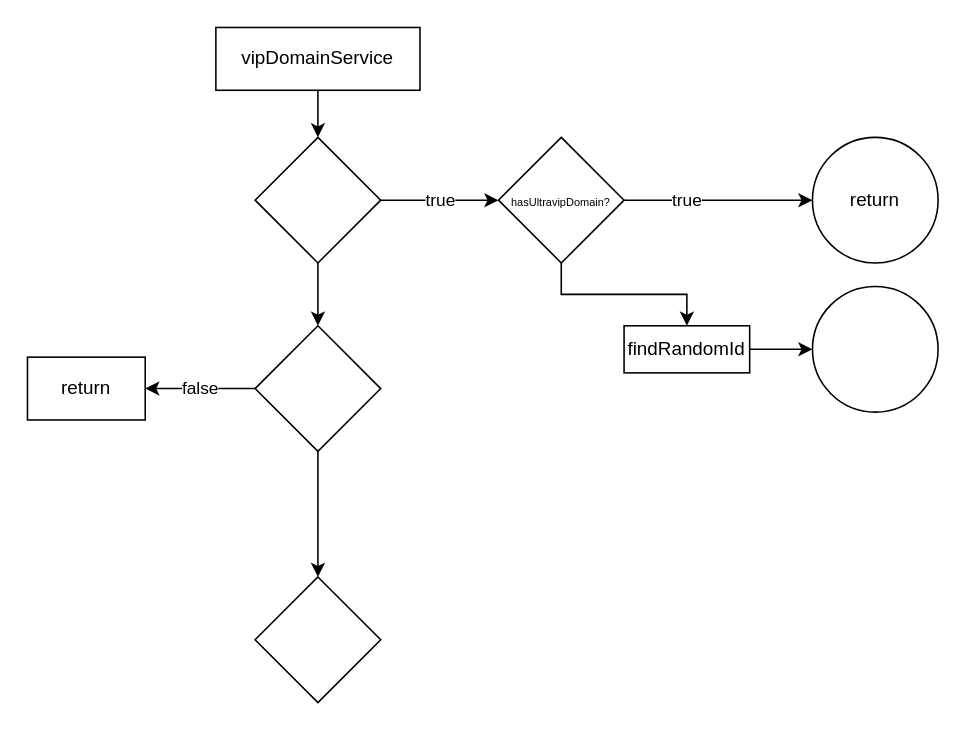
Some shapes in this 966 by 730 pixel diagram are drawn without their labels. Each missing label, with the centre of its shape:
"add rand domain id to users_meta, key 'personal_domain_id'" goes at [874,348].
"hasVipDomain?" goes at [317,387].
"user_meta has 'ultravip'" goes at [317,199].
